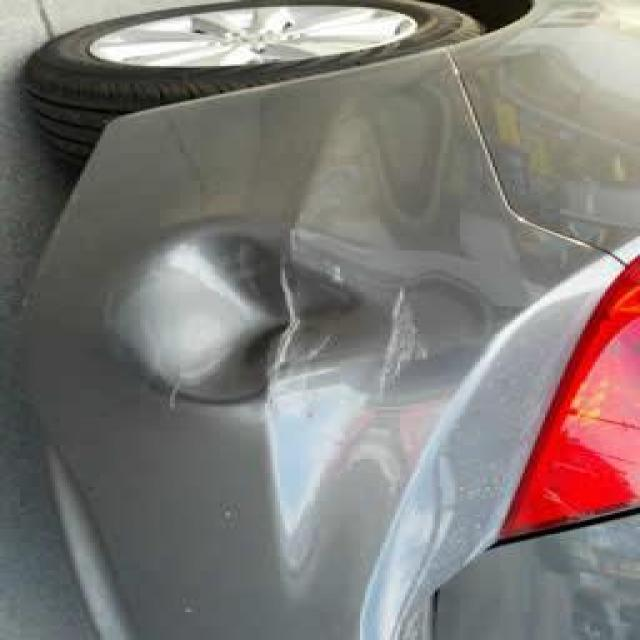dent: (104, 200, 424, 435)
